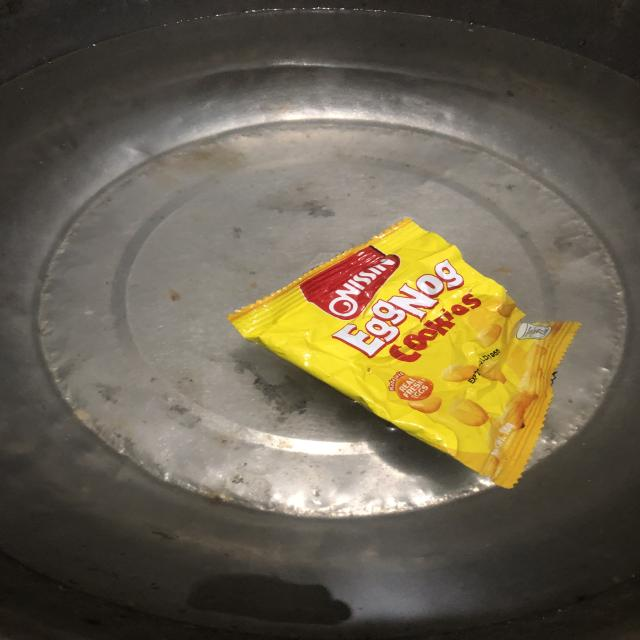Plastic Wrapper: (229, 219, 580, 487)
